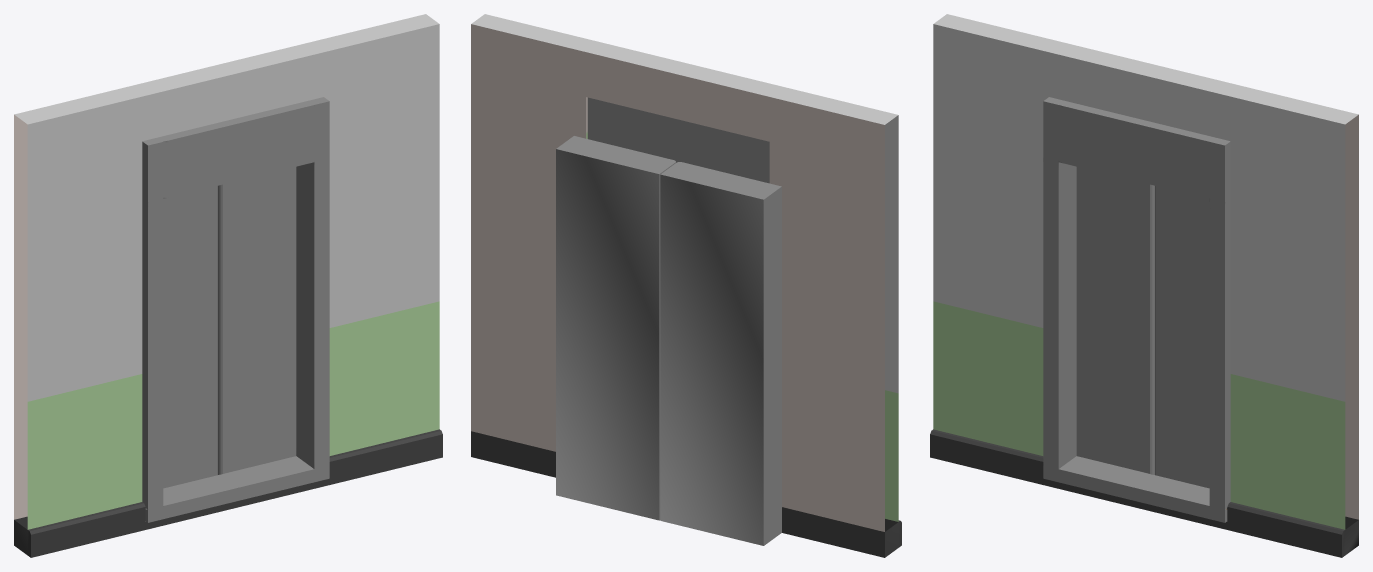
The model's file is School_Elevator.fbx.
3 views of the same model, side by side, from view 1: azimuth 30°, elevation 25°; view 2: azimuth 150°, elevation 25°; view 3: azimuth 330°, elevation 25° (orthographic).
Parts seen in each view (by area): view 1: Elevator.002; view 2: Elevator.002; view 3: Elevator.002.
Part boxes in pixels (x1,y1,x2,y2): Elevator.002: [14, 14, 442, 557]; Elevator.002: [471, 14, 901, 557]; Elevator.002: [930, 14, 1358, 557].
Bounding box in the file's own units: 250 × 250 × 38.7.
